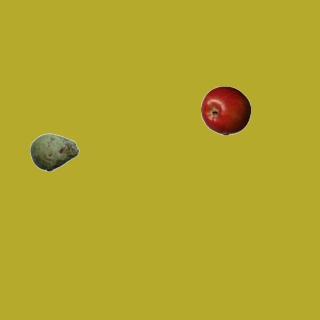Apple Braeburn: (200, 85, 250, 135)
Pear Stone: (29, 127, 79, 177)
